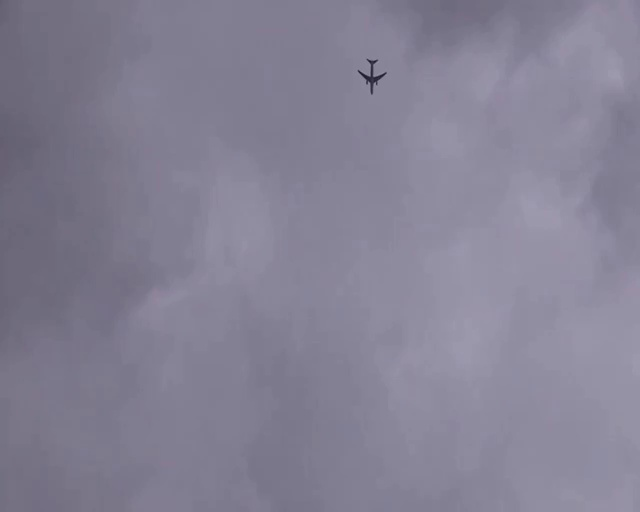AIRPLANE: (357, 58, 387, 95)
